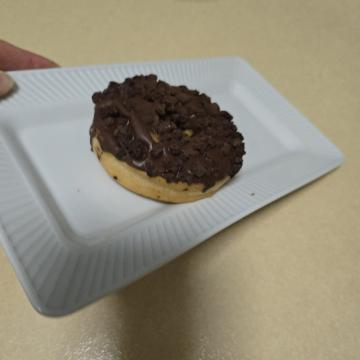doughnut: (62, 106, 223, 285)
